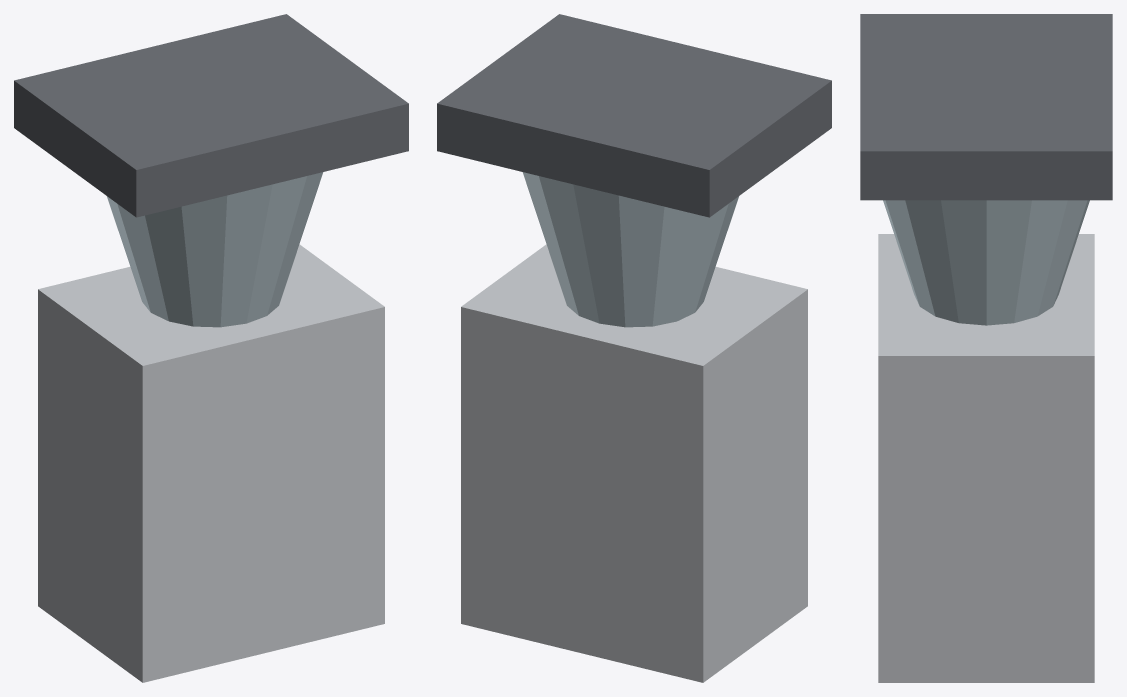
Rendered from bank-vault-heist-kit-siren-81aceeb7__25112.glb.
3 renders of one model, left to right at view 1: azimuth 30°, elevation 25°; view 2: azimuth 150°, elevation 25°; view 3: azimuth 270°, elevation 25°, orthographic. The views are drawn at different scales.
Visible parts, largest first — view 1: siren; view 2: siren; view 3: siren.
Boxes of the visible parts, box(x1,y1,x2,y2) form: siren: box(14, 14, 408, 682); siren: box(437, 14, 831, 682); siren: box(860, 14, 1112, 682).
Bounding box in the file's own units: 0.18 × 0.33 × 0.14.
